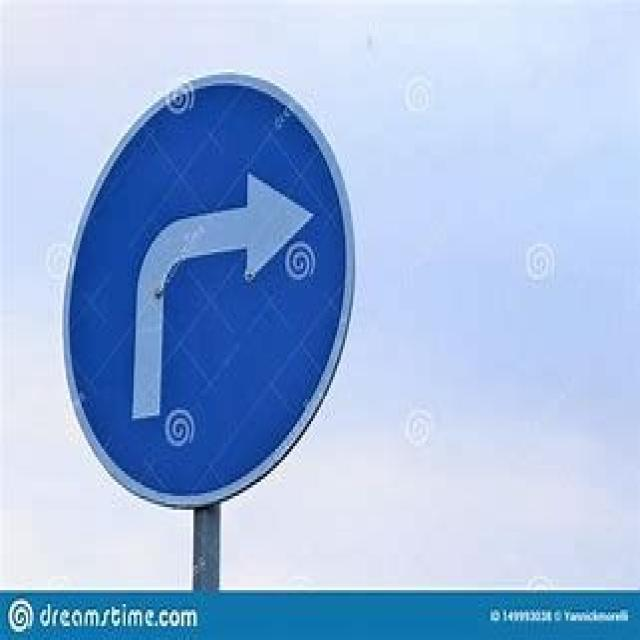COMPULSARY_TURN_RIGHT_AHEAD: (57, 66, 356, 513)
